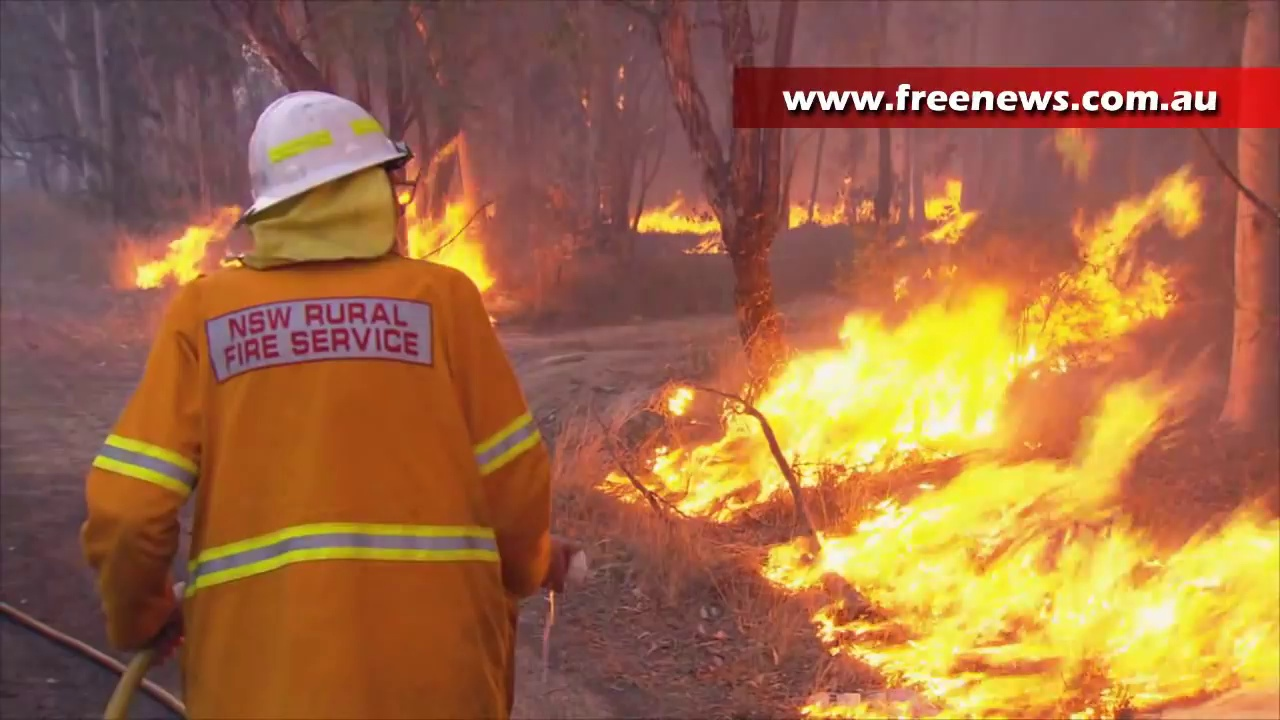fire: (778, 480, 1280, 720), (619, 280, 1029, 515), (1034, 168, 1203, 358), (410, 201, 488, 285), (132, 220, 212, 287), (925, 177, 977, 249), (642, 200, 717, 235), (792, 203, 850, 223), (669, 385, 692, 412)
